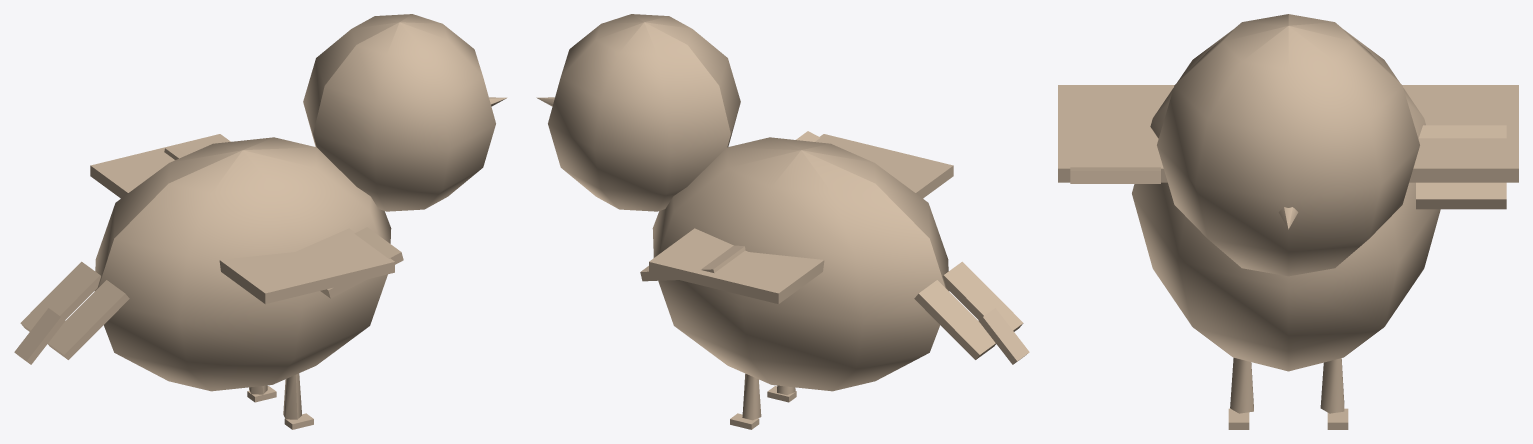
File: sparrow.glb
3 renders of one model, left to right at view 1: azimuth 30°, elevation 25°; view 2: azimuth 150°, elevation 25°; view 3: azimuth 270°, elevation 25°, orthographic. The views are drawn at different scales.
Visible parts, largest first — view 1: Bird; view 2: Bird; view 3: Bird.
Part boxes in pixels (left/top/right/bottom): Bird: left=14, top=14, right=507, bottom=429; Bird: left=536, top=14, right=1029, bottom=429; Bird: left=1058, top=14, right=1518, bottom=429.
Bounding box in the file's own units: 1 × 0.7047 × 0.6215.
